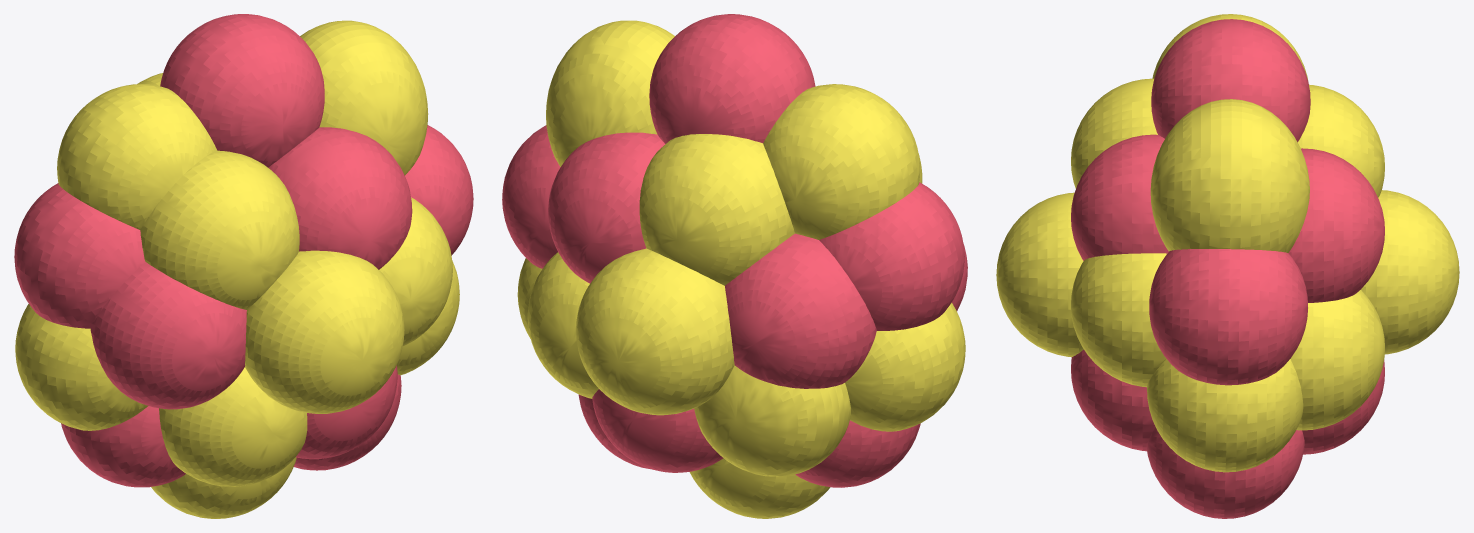
The model's file is UntitledScene.gltf.
3 views of the same model, side by side, from view 1: azimuth 30°, elevation 25°; view 2: azimuth 150°, elevation 25°; view 3: azimuth 270°, elevation 25° (orthographic). The views are drawn at different scales.
Visible parts, largest first — view 1: group_0_16768282, group_0_15277357; view 2: group_0_16768282, group_0_15277357; view 3: group_0_16768282, group_0_15277357.
Boxes of the visible parts, box(x1,y1,x2,y2) form: group_0_16768282: box(15, 20, 459, 518); group_0_15277357: box(14, 14, 473, 487); group_0_16768282: box(517, 20, 965, 518); group_0_15277357: box(502, 14, 967, 487); group_0_16768282: box(996, 14, 1459, 472); group_0_15277357: box(1071, 19, 1384, 518).
Size of the model in its own units: 0.3005 by 0.3154 by 0.28.
